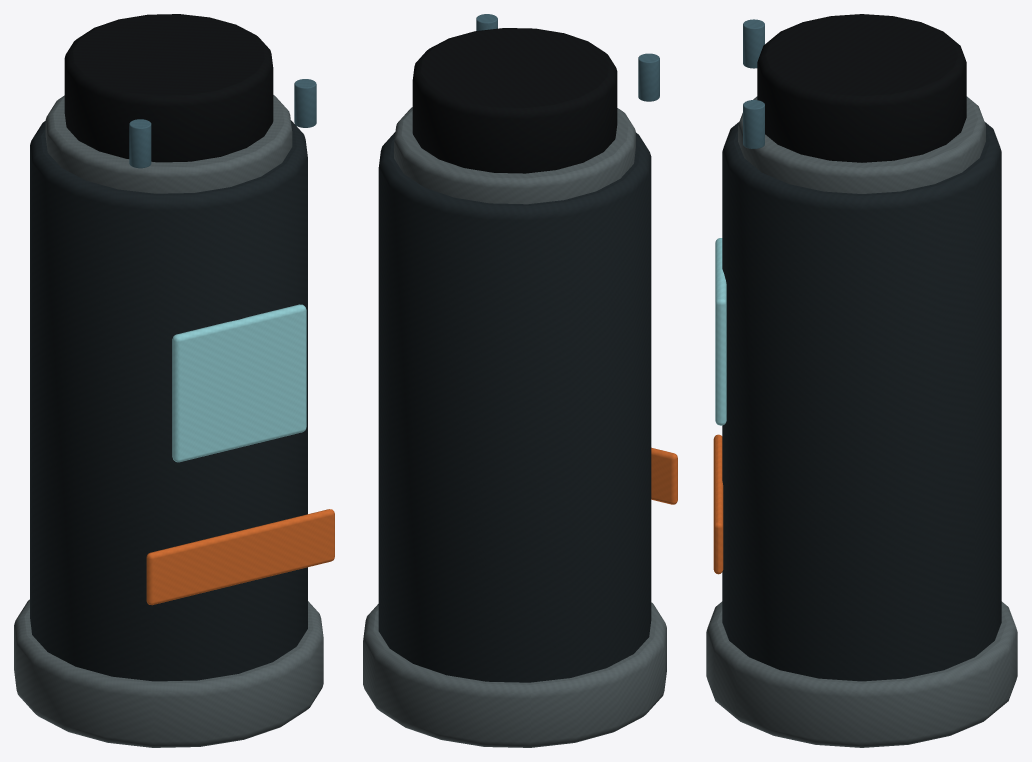
The model's file is SpecimenCanister.glb.
3 views of the same model, side by side, from view 1: azimuth 30°, elevation 25°; view 2: azimuth 150°, elevation 25°; view 3: azimuth 270°, elevation 25° (orthographic).
Visible parts, largest first — view 1: SpecimenCanister_Mesh; view 2: SpecimenCanister_Mesh; view 3: SpecimenCanister_Mesh.
Part boxes in pixels (x1,y1,x2,y2): SpecimenCanister_Mesh: [14, 14, 334, 747]; SpecimenCanister_Mesh: [363, 14, 677, 747]; SpecimenCanister_Mesh: [706, 14, 1017, 747].
Size of the model in its own units: 0.49 by 1.1 by 0.49.
6 materials, 6 textured.
